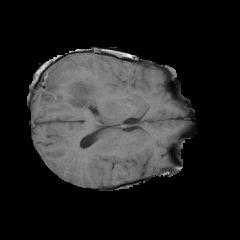glioma: (31, 60, 105, 122)
